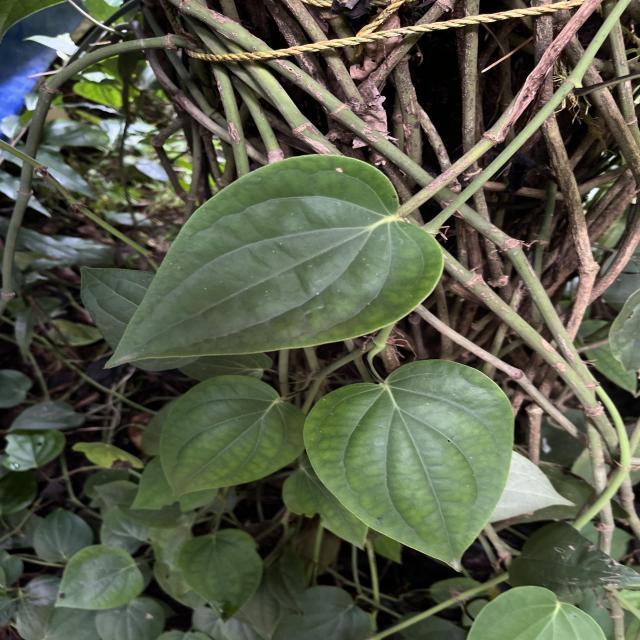Piper nigrum: (102, 153, 446, 372), (300, 358, 516, 576), (156, 373, 308, 501)
